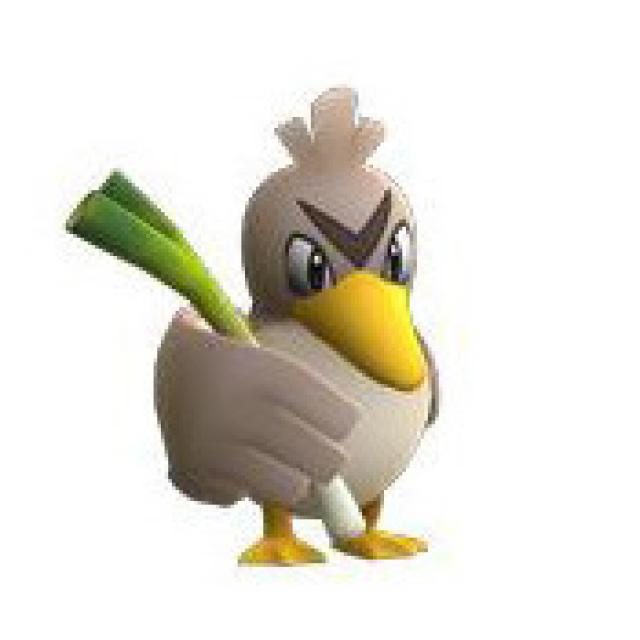Farfetchd: (137, 90, 436, 572)
